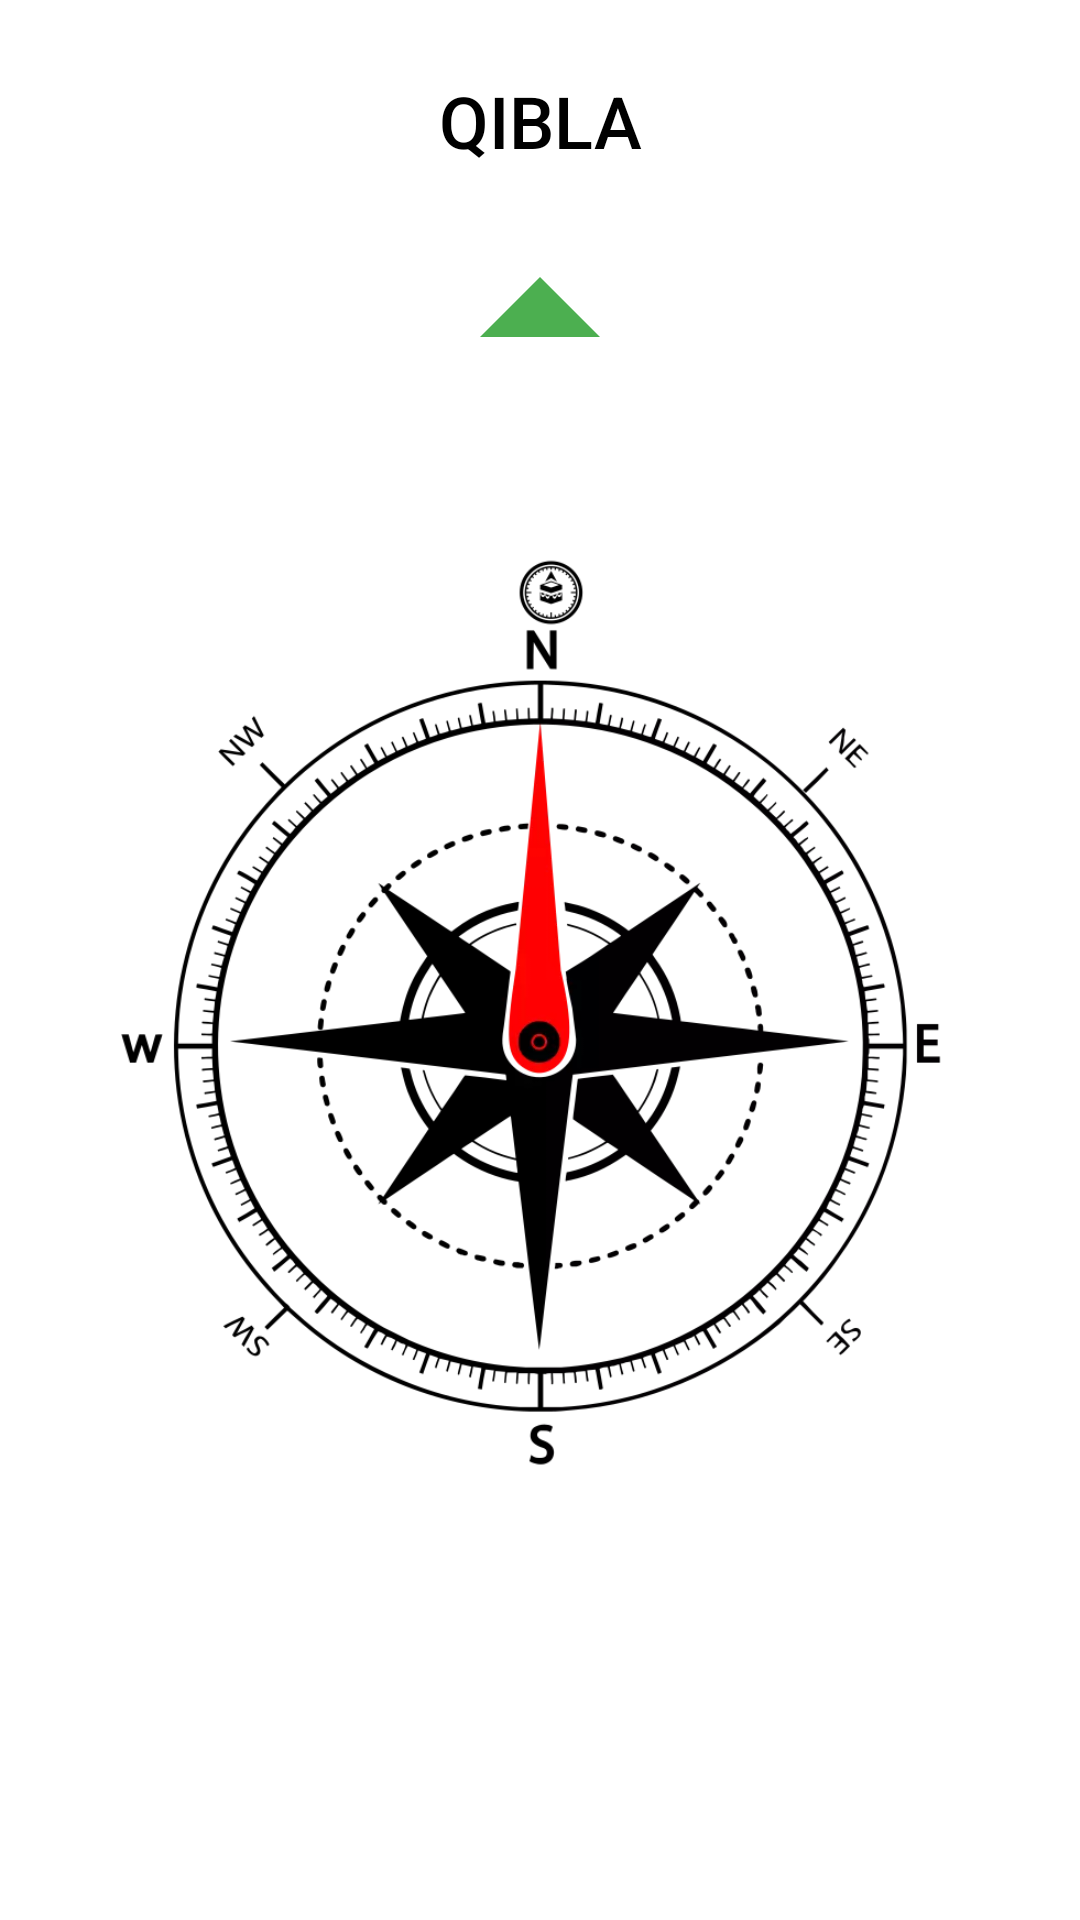

Locate icon controls on the screen. Image size 1080×1920, boxes as bbox=(x1, y1, x2, y2).
arrow drop up: bbox=(480, 277, 600, 337)
